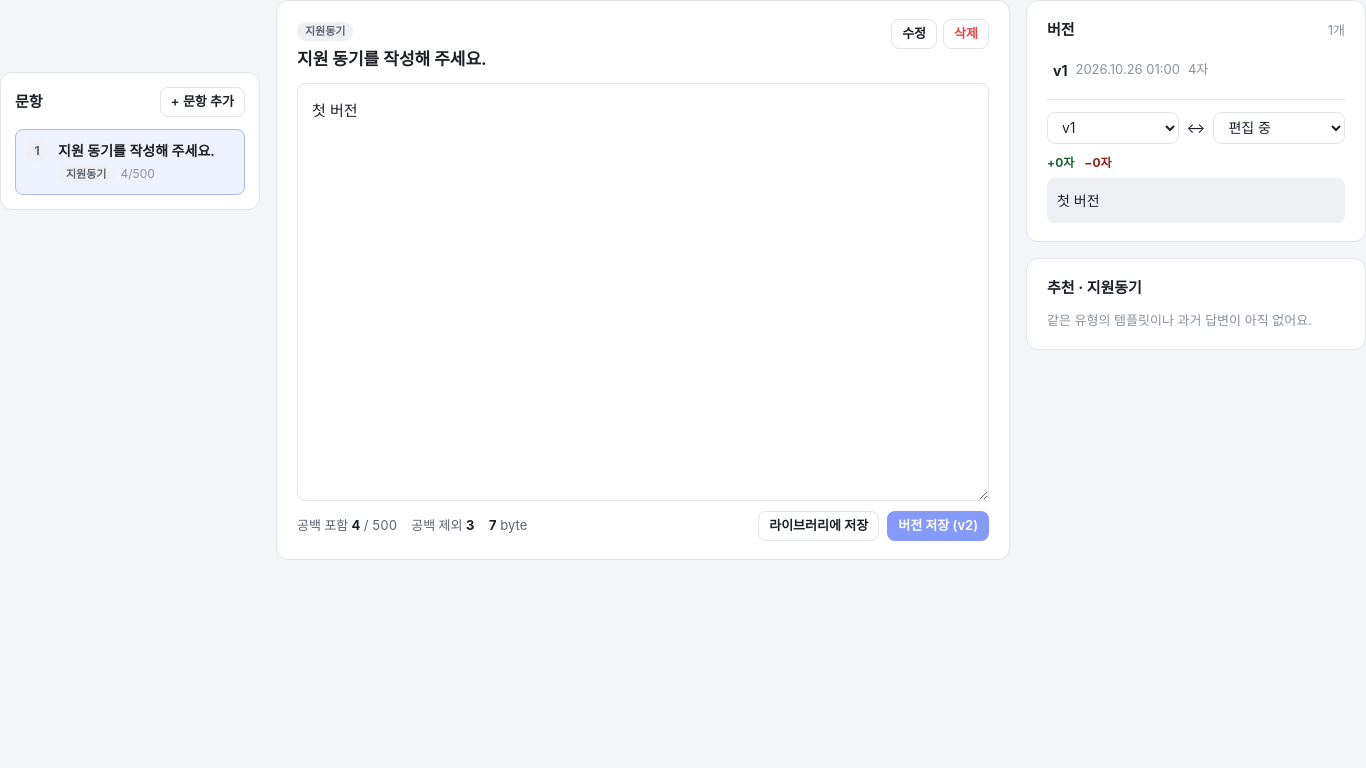
it: 자기소개서 편집기 › 버전 저장 › 다른 탭에서 먼저 저장해 409 가 오면 쓰던 내용을 지우지 않고 안내한다
This screenshot has width=1366, height=768.
Step 1. Type " 내가 쓴 부분" into the text box named "답변" → (643, 292), box [297,83,989,501]
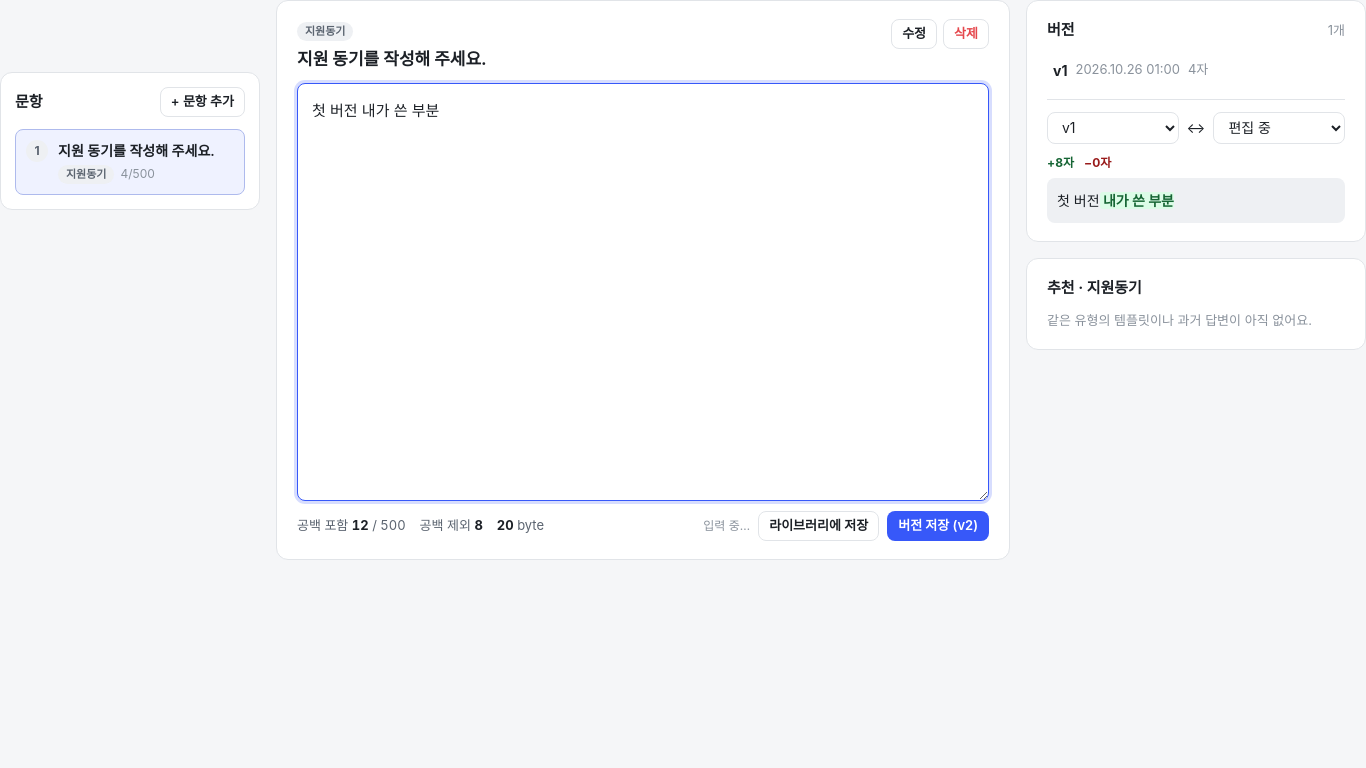
Step 2. Click the button "버전 저장 (v2)" → (938, 526), box [887,511,989,541]
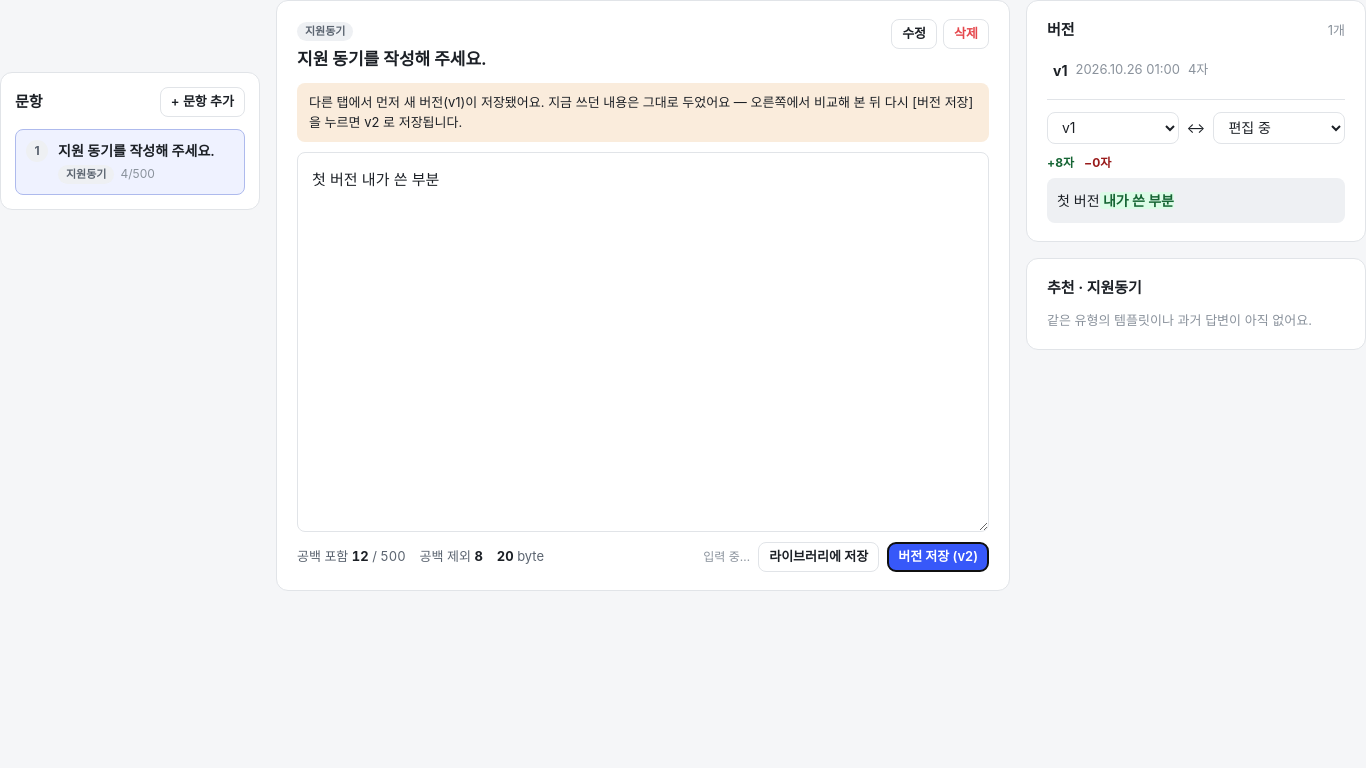
Expected: the text box named "답변" holds "첫 버전 내가 쓴 부분", [297,152,989,532]
Expected: the message shows "다른 탭에서 먼저 새 버전", [309,94,455,110]
